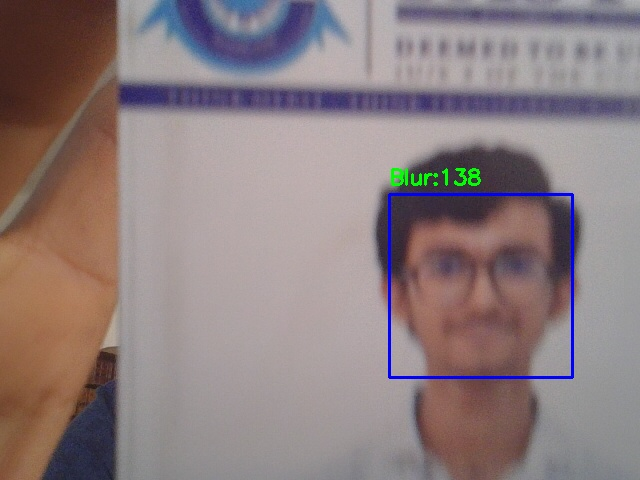fake: (389, 194, 572, 377)
